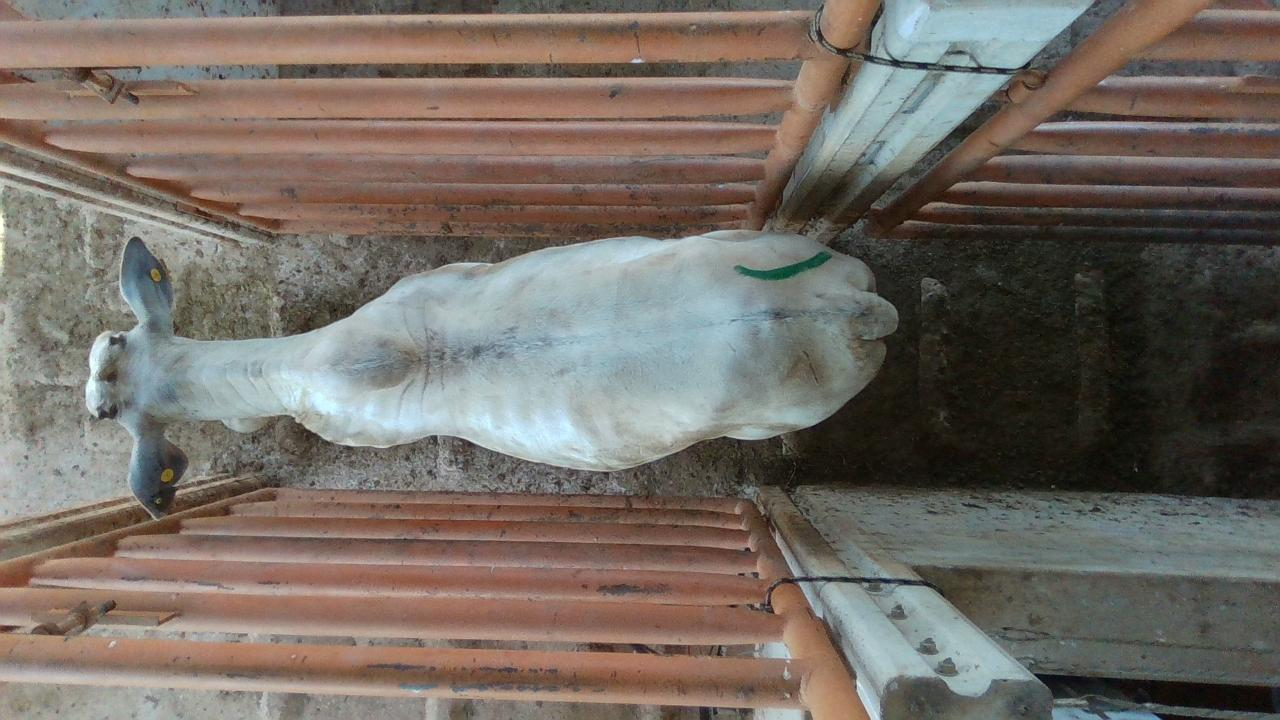cattle: (83, 225, 899, 520)
